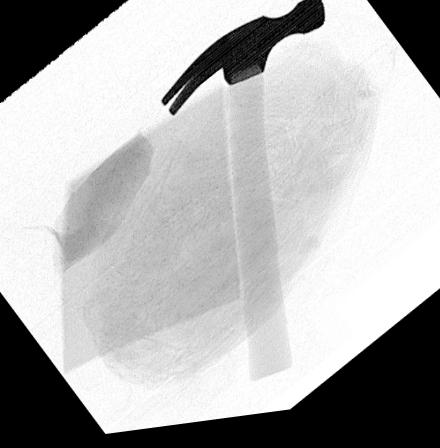Hammer: (158, 0, 328, 388)
